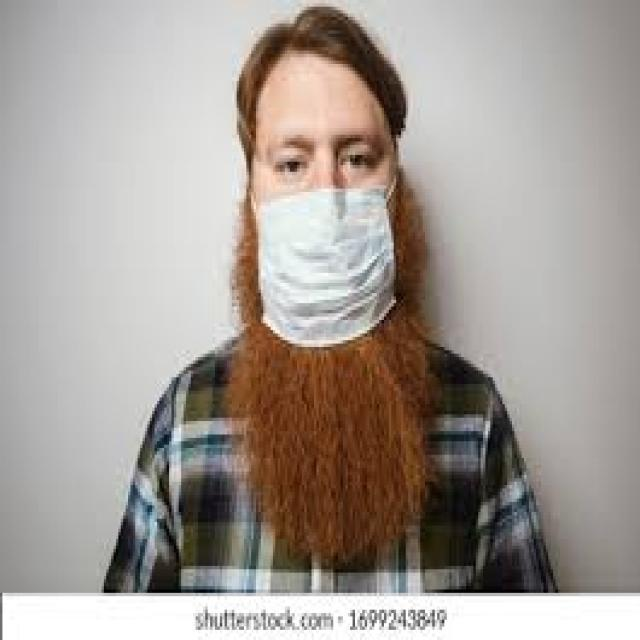with_mask: (216, 2, 437, 395)
